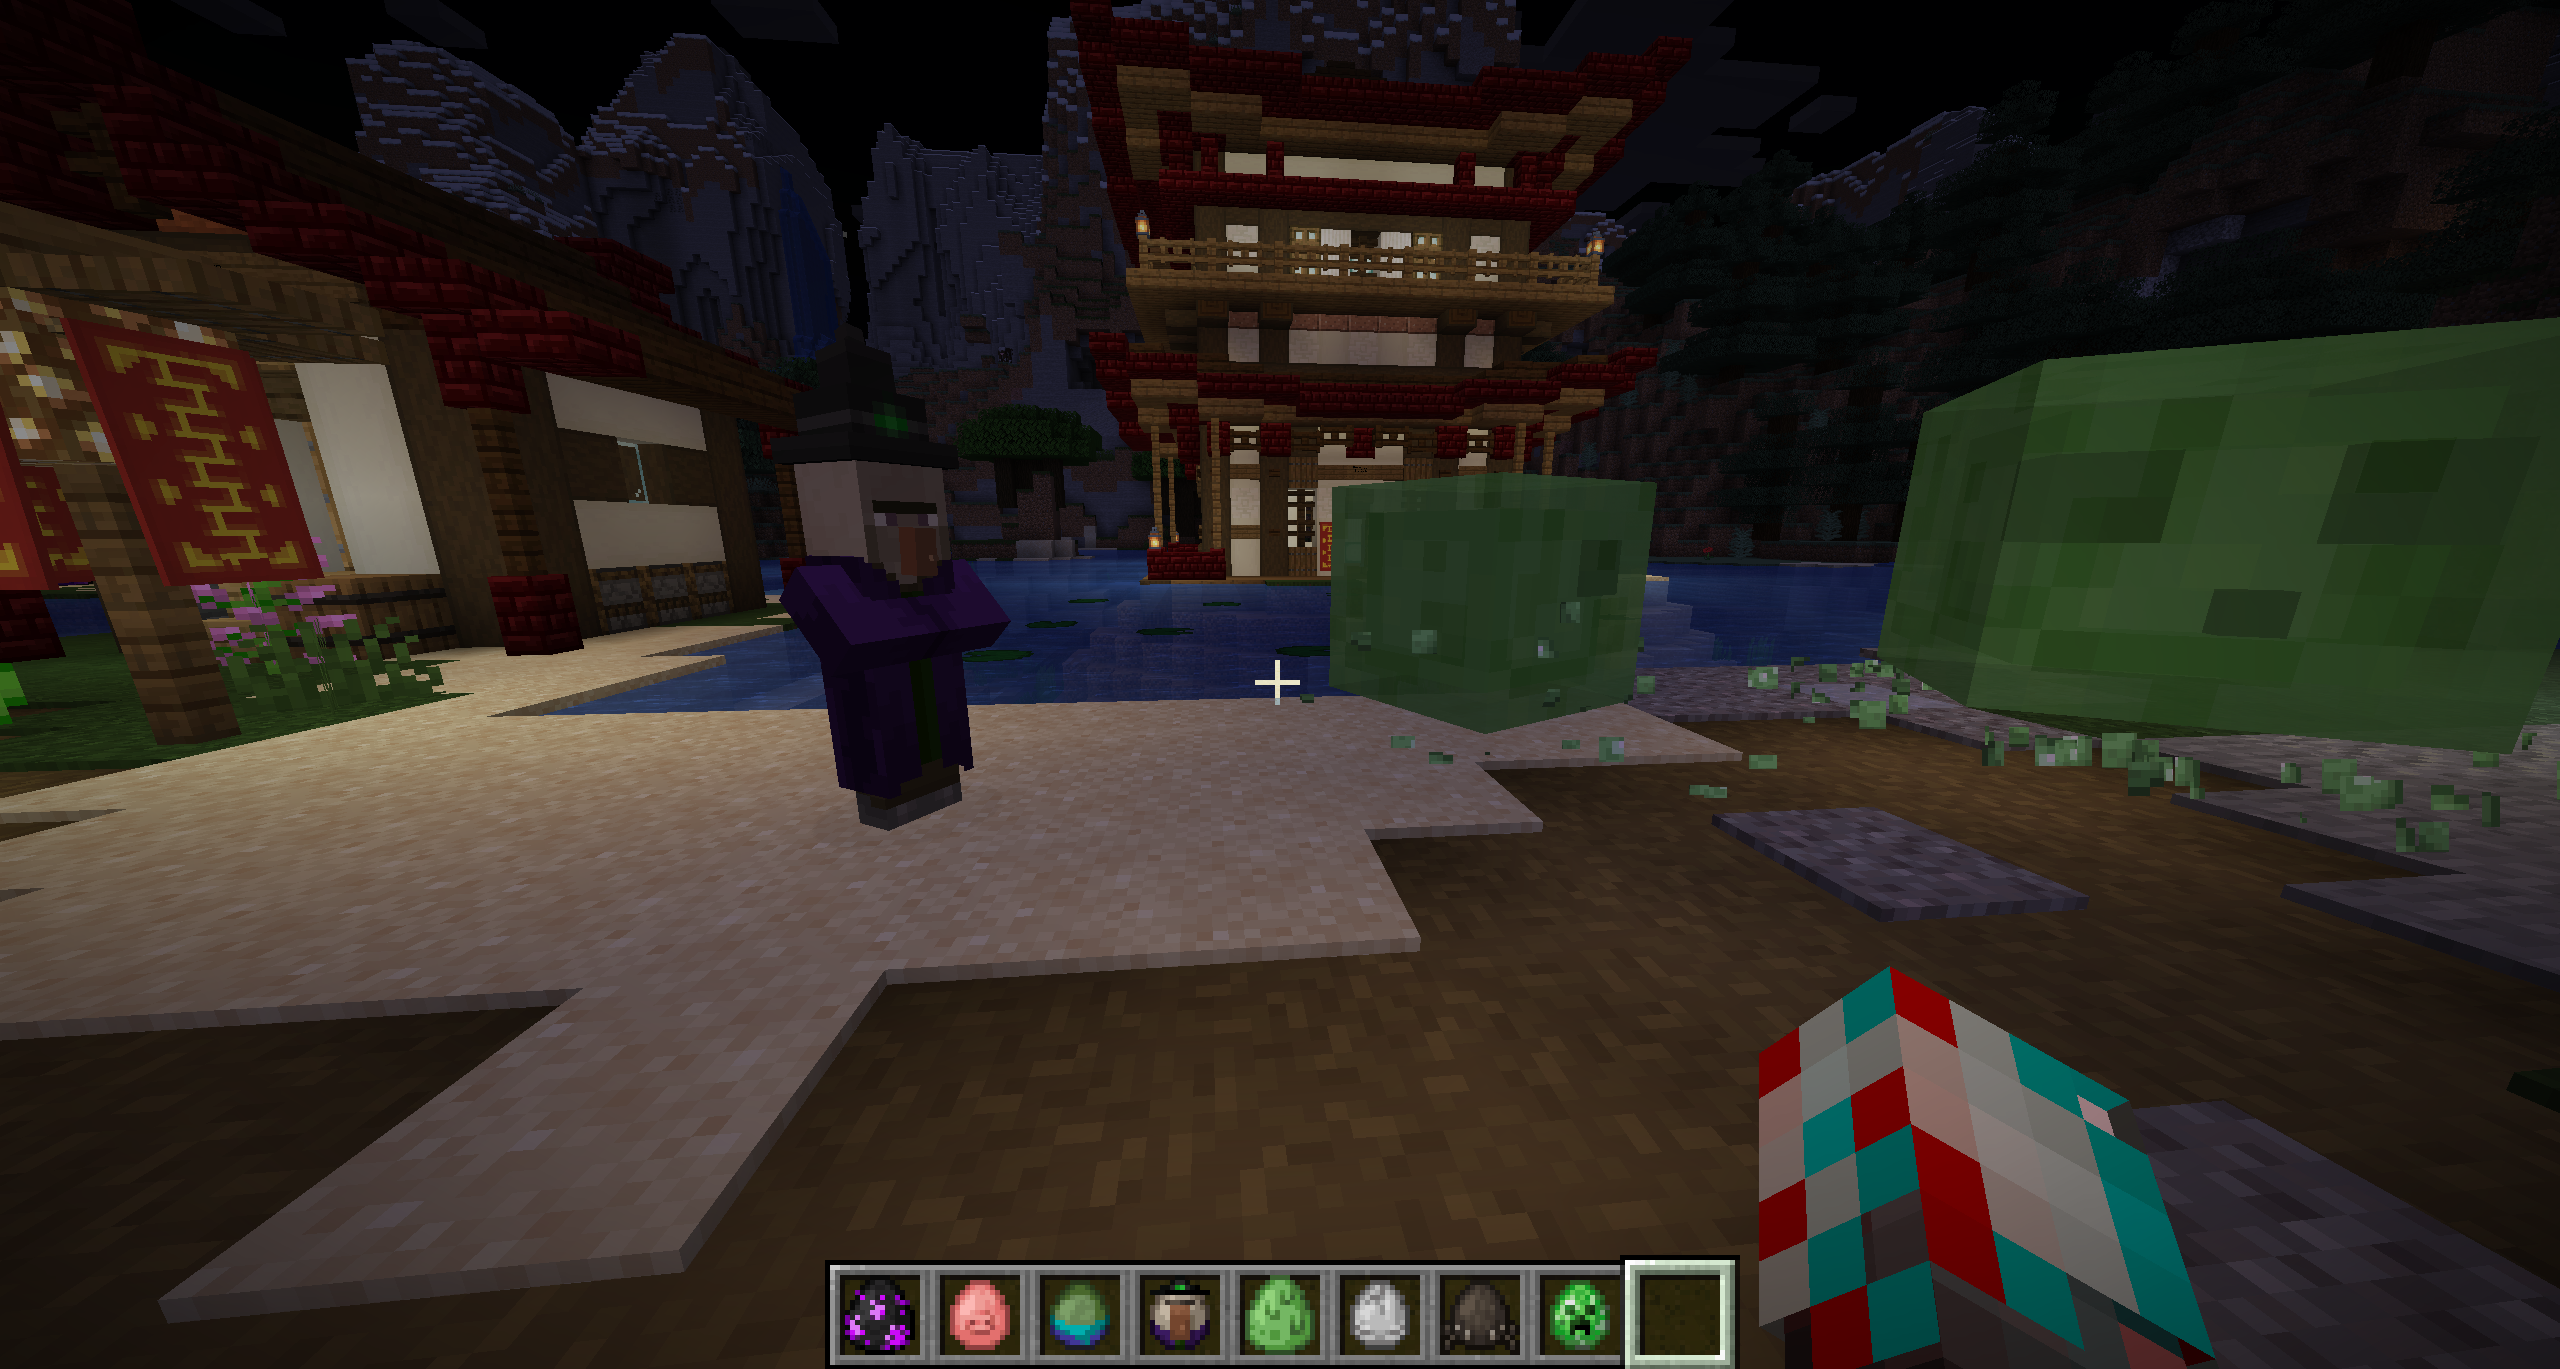slimes: (1861, 289, 2557, 763), (1326, 465, 1661, 736)
sorcieres: (757, 318, 1014, 849)
